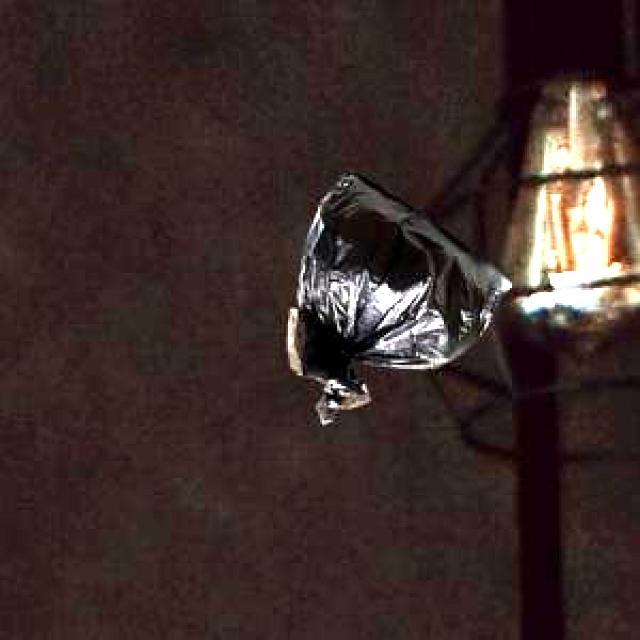Garbage_Bag: (285, 168, 509, 422)
